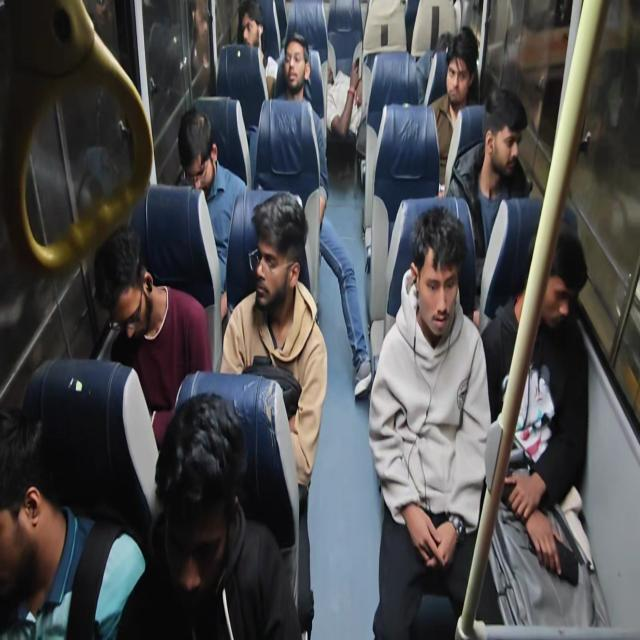person: (139, 414, 245, 640), (6, 415, 83, 584), (479, 73, 568, 214), (238, 217, 315, 365), (529, 230, 618, 348), (386, 220, 471, 325), (306, 34, 374, 160), (97, 228, 153, 370), (181, 104, 232, 246), (449, 49, 492, 128), (277, 34, 309, 108), (231, 13, 266, 74), (436, 19, 469, 64)
